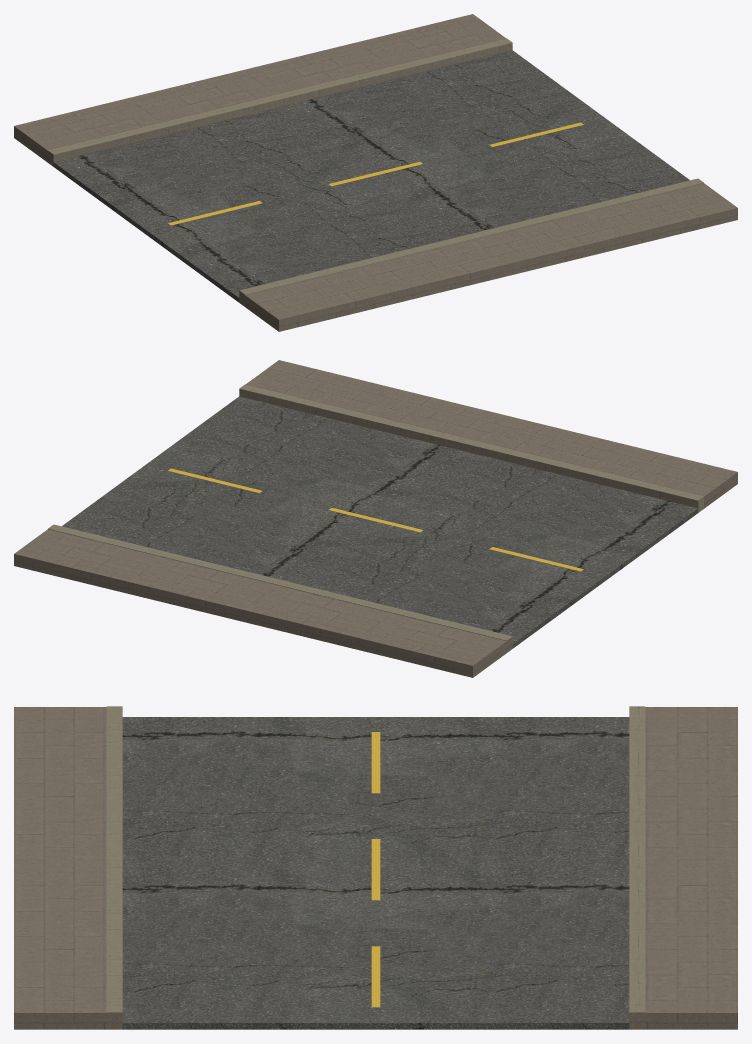
File: road_straight.gltf
3 renders of one model, top to bottom at view 1: azimuth 30°, elevation 25°; view 2: azimuth 150°, elevation 25°; view 3: azimuth 270°, elevation 25°, orthographic. The views are drawn at different scales.
Parts seen in each view (by area): view 1: road_straight; view 2: road_straight; view 3: road_straight.
Boxes of the visible parts, bbox=[...] form: road_straight: bbox=[14, 14, 737, 331]; road_straight: bbox=[14, 360, 737, 677]; road_straight: bbox=[14, 706, 737, 1029].
Size of what is drawn, in the model's own units: 10 by 0.26 by 10.
4 materials, 3 textured.
